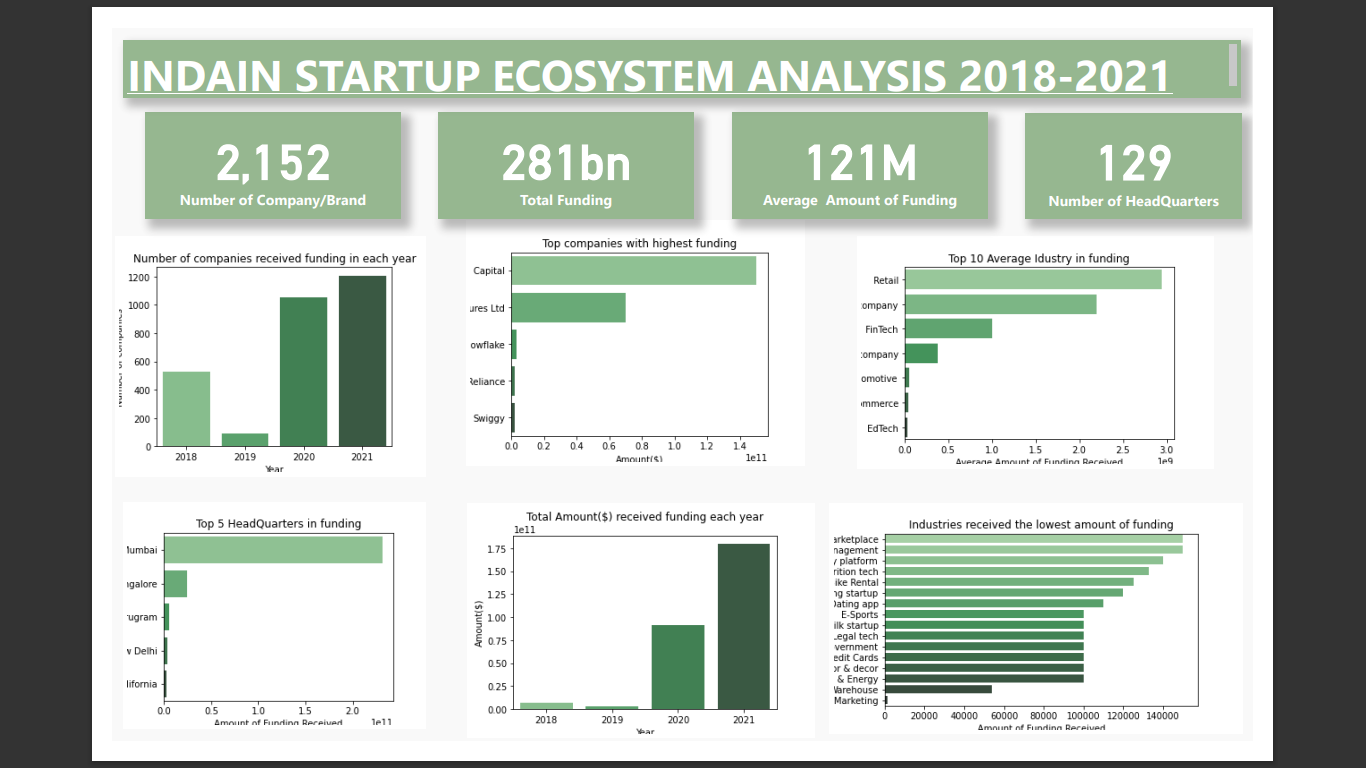

The page's visual inventory and layout, read from the dashboard file:
{"tool":"powerbi","page":{"name":"Page 1","canvas":[1280,800],"ordinal":0},"visuals":[{"type":"pythonVisual","fields":{"Values":["data.Funding Year","data.Amount($)"]},"box":[398.3,533.9,389.7,262.7],"z":0},{"type":"pythonVisual","fields":{"Values":["data.Company/Brand","data.Amount($)"]},"box":[396.7,214.6,380.5,276.4],"z":1000},{"type":"pythonVisual","fields":{"Values":["data.Funding Year","data.Company/Brand"]},"box":[3.2,233.3,349.2,269.8],"z":2000},{"type":"pythonVisual","fields":{"Values":["data.Amount($)","data.Sector"]},"box":[836.1,233.3,400,260.9],"z":3000},{"type":"pythonVisual","fields":{"Values":["data.HeadQuarter","data.Amount($)"]},"box":[12,532.8,339.9,254.1],"z":4000},{"type":"pythonVisual","fields":{"Values":["data.Sector","data.Amount($)"]},"box":[805.2,532.8,463.5,259.2],"z":5000},{"type":"card","fields":{"Values":["Sum(data.Amount($))"]},"box":[366.3,93.7,287,120.6],"z":6000},{"type":"card","fields":{"Values":["Avg(data.Amount($))"]},"box":[695.9,93.7,287,120.6],"z":7000},{"type":"card","fields":{"Values":["Count(data.Company/Brand)"]},"box":[36.5,93.7,287.3,120.6],"z":8000},{"type":"card","fields":{"Values":["Count(data.HeadQuarter)"]},"box":[1025.4,95.2,242.9,119],"z":9000},{"type":"textbox","box":[12,13.3,1255.4,65.1],"z":10000}]}

Visuals, with their boxes on the page's 1280x800 design canvas (x1, y1, x2, y2). These are canvas units, not pixel positions in the 1366x768 screenshot, which may show the page scaled, cropped or inside an application window:
pythonVisual - data.Funding Year x data.Amount($): [398,534,788,797]
pythonVisual - data.Company/Brand x data.Amount($): [397,215,777,491]
pythonVisual - data.Funding Year x data.Company/Brand: [3,233,352,503]
pythonVisual - data.Amount($) x data.Sector: [836,233,1236,494]
pythonVisual - data.HeadQuarter x data.Amount($): [12,533,352,787]
pythonVisual - data.Sector x data.Amount($): [805,533,1269,792]
card - Sum(data.Amount($)): [366,94,653,214]
card - Avg(data.Amount($)): [696,94,983,214]
card - Count(data.Company/Brand): [36,94,324,214]
card - Count(data.HeadQuarter): [1025,95,1268,214]
textbox: [12,13,1267,78]
